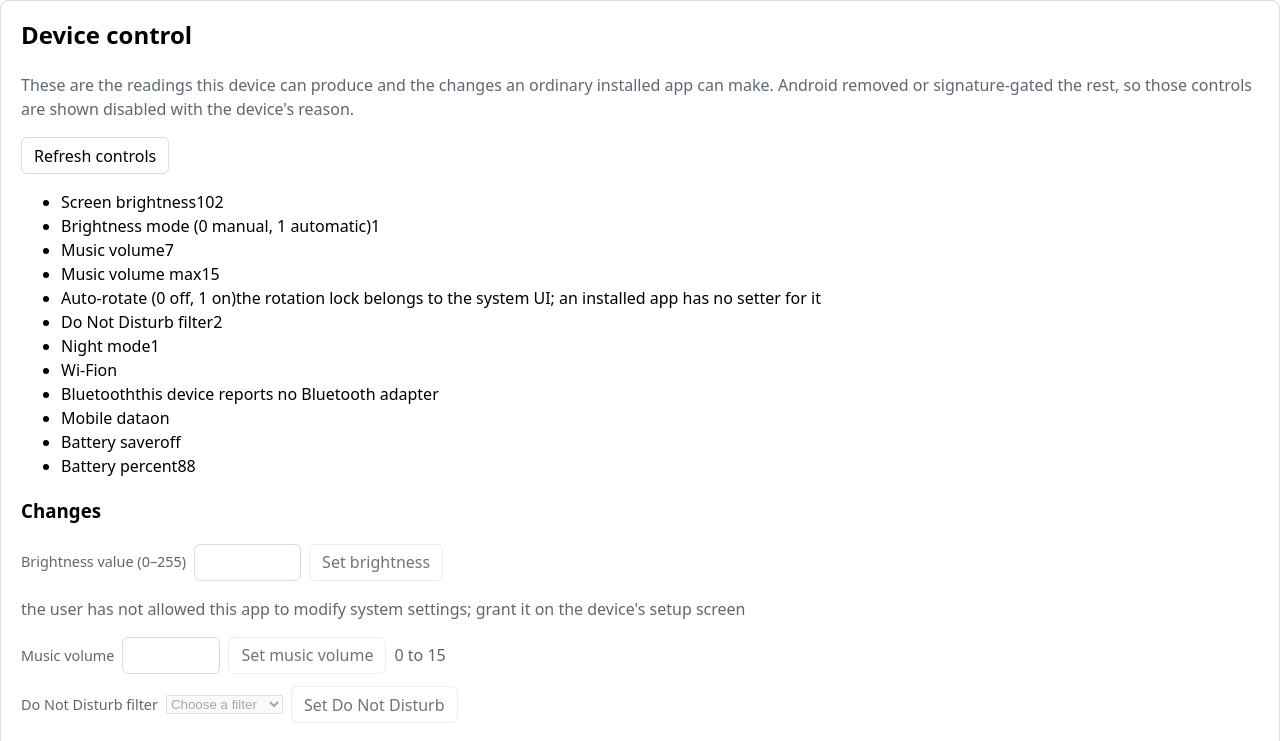
Test case: the control panel › after a confirmed change it re-reads control.get instead of assuming the value
This screenshot has width=1280, height=741.
Expected: the list named "control readings" is shown, [61, 191, 821, 477]
Type "9" into the number field labelled "Music volume" at (171, 655), box [122, 637, 220, 674]
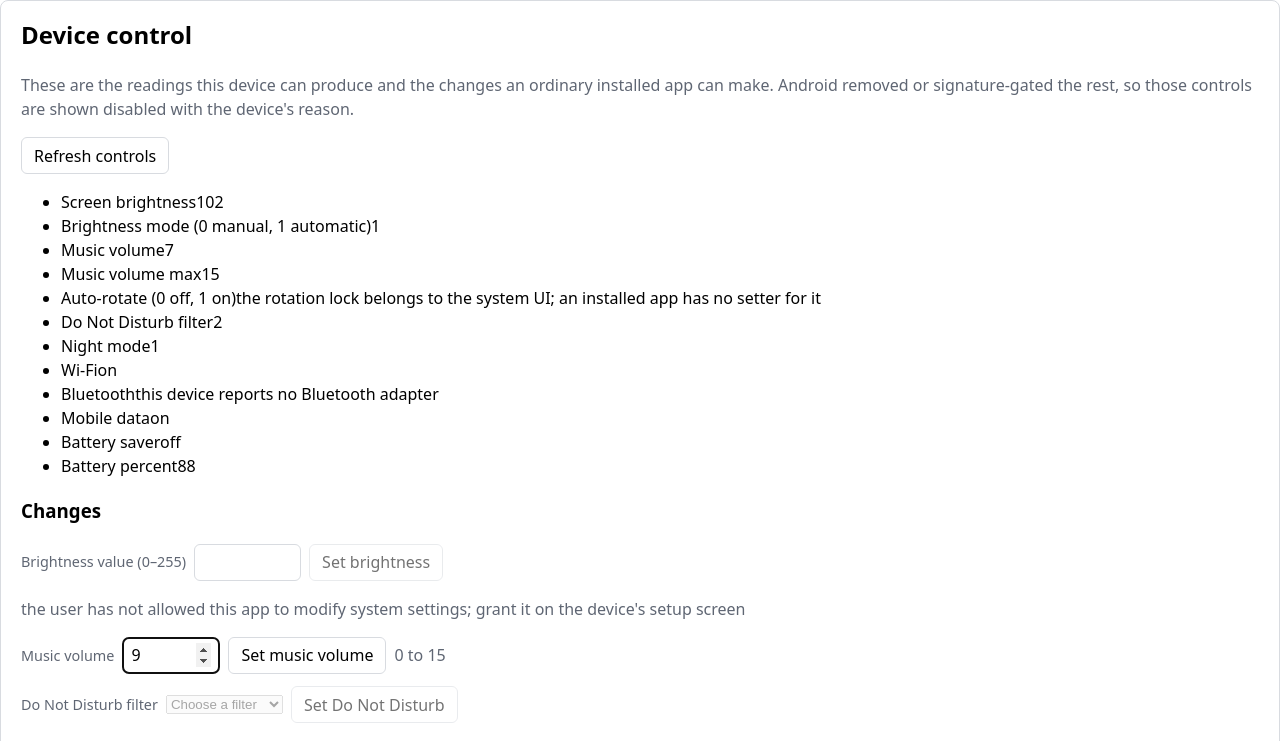
Click the button "Set music volume" at (307, 655), box [228, 637, 386, 674]
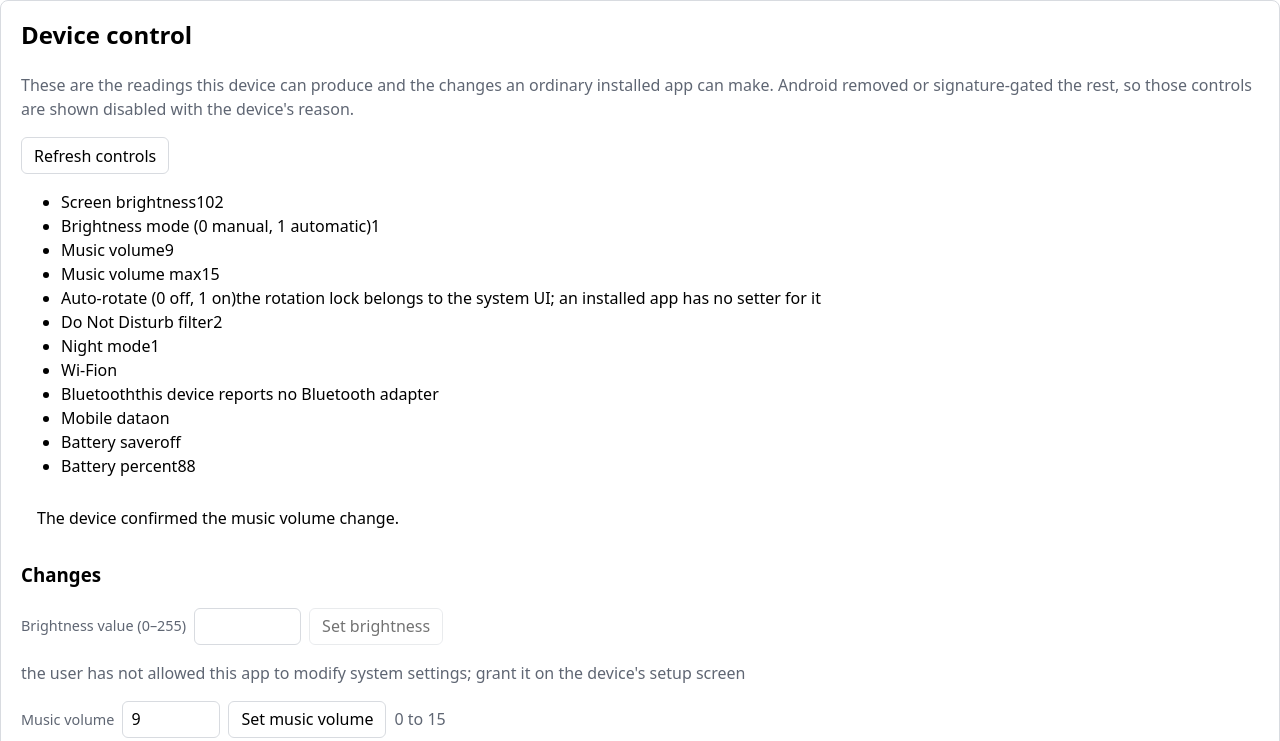
Expected: the text "9" is shown, [165, 239, 174, 261]
Expected: the text "The device confirmed the music volume change." is shown, [37, 507, 399, 529]
